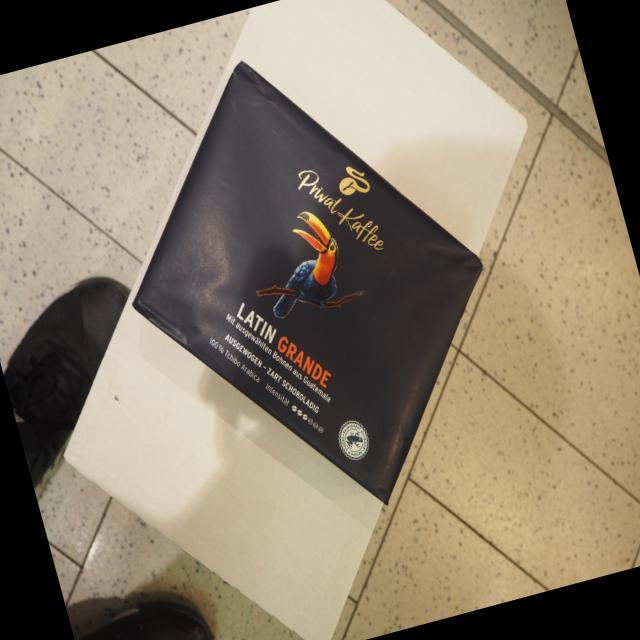LG Gemahlen: (128, 50, 488, 512)
